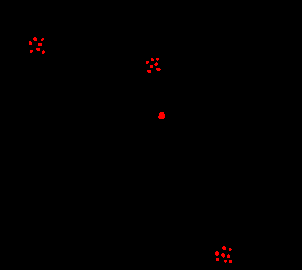Target: (158, 112, 165, 119), (215, 251, 219, 256), (221, 253, 225, 258), (33, 37, 37, 41), (154, 62, 158, 66), (222, 246, 226, 250), (156, 68, 161, 71), (29, 41, 32, 45), (38, 43, 42, 46), (36, 48, 40, 51), (42, 50, 45, 54), (147, 70, 151, 73), (227, 254, 230, 258), (41, 38, 44, 41), (30, 50, 33, 53), (151, 58, 154, 61), (156, 58, 159, 61), (146, 61, 149, 64), (150, 65, 153, 68), (229, 248, 232, 251), (216, 258, 219, 261), (224, 260, 227, 263), (229, 260, 232, 263)
